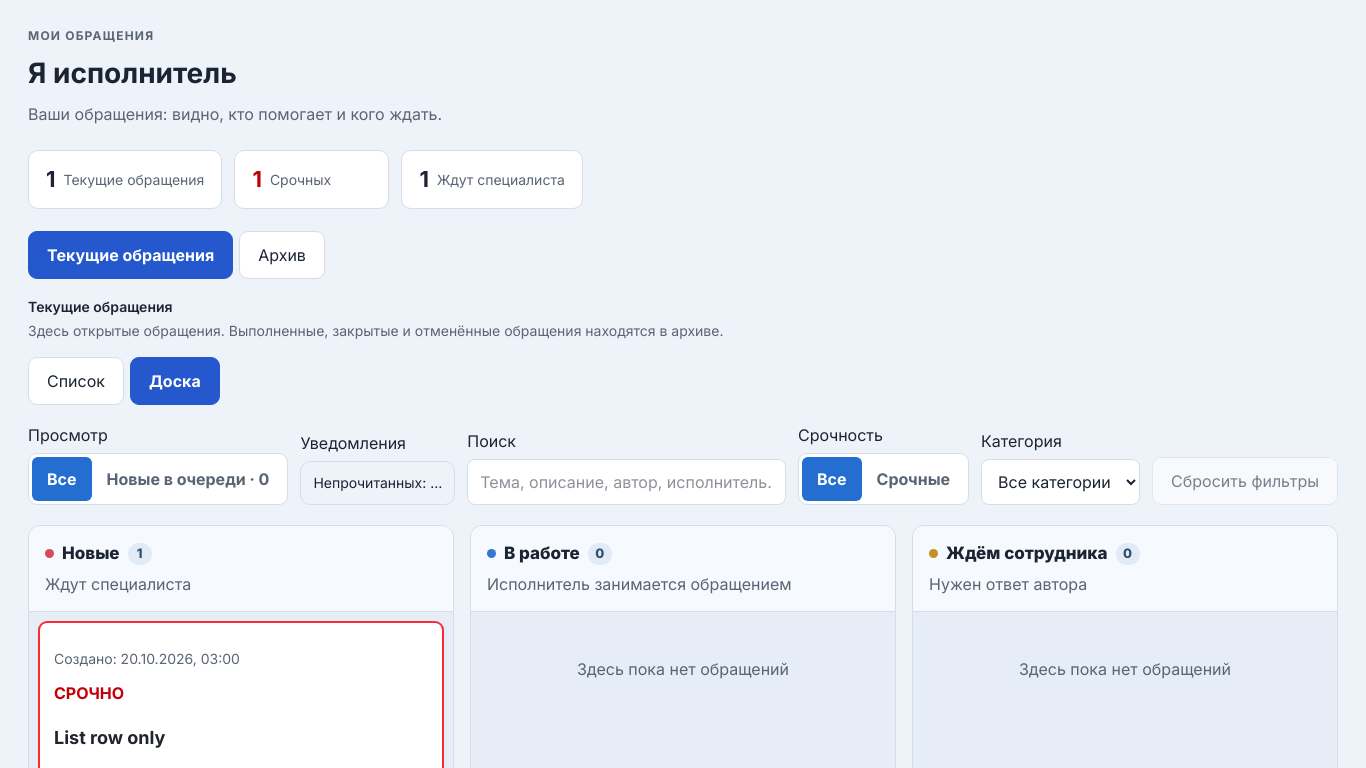
it: actor-bound MyTasks uses the common scalar command controller › rejects mismatched or versionless full read 0 without assuming a list version
Click the button "List row only". click: (110, 738)
box: 54,716 -> 428,760
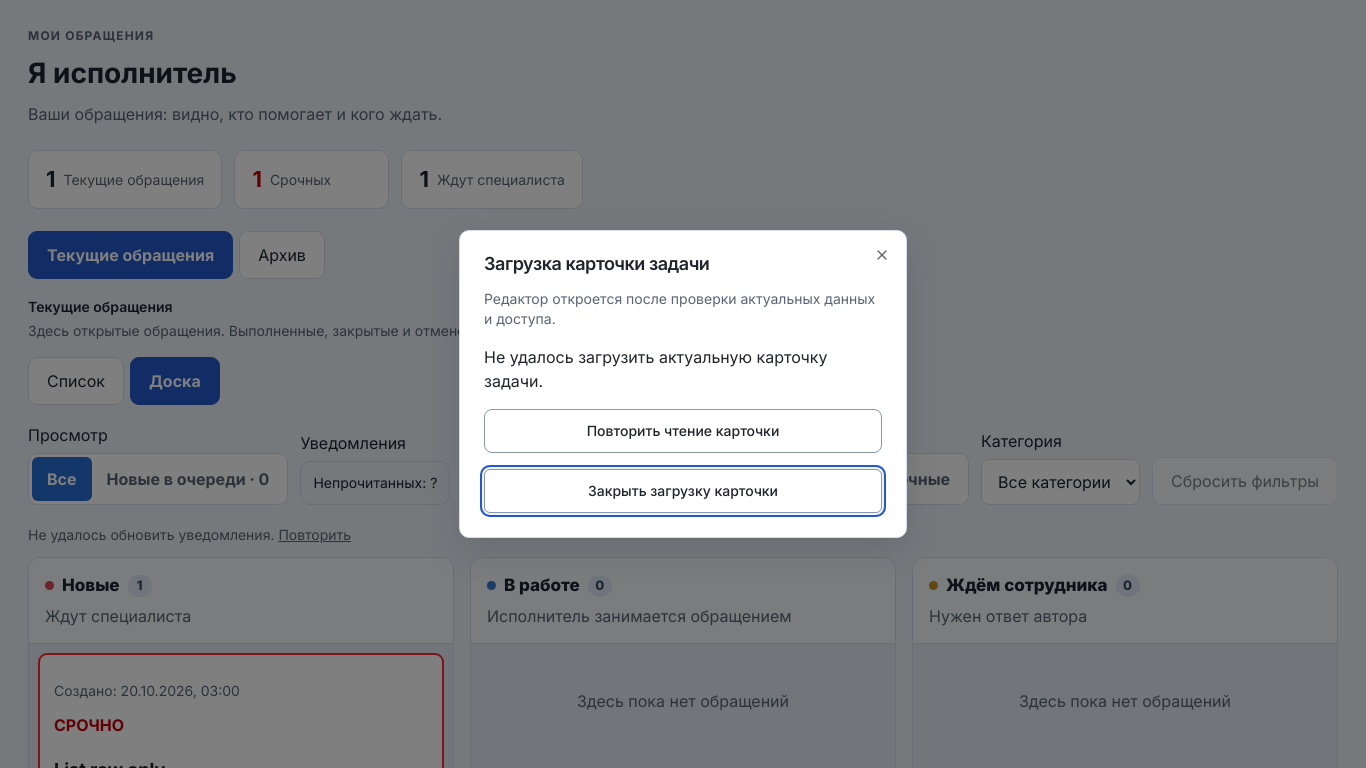
Result: the text "Не удалось загрузить актуальную карточку задачи." is shown at 484,345 -> 882,393
